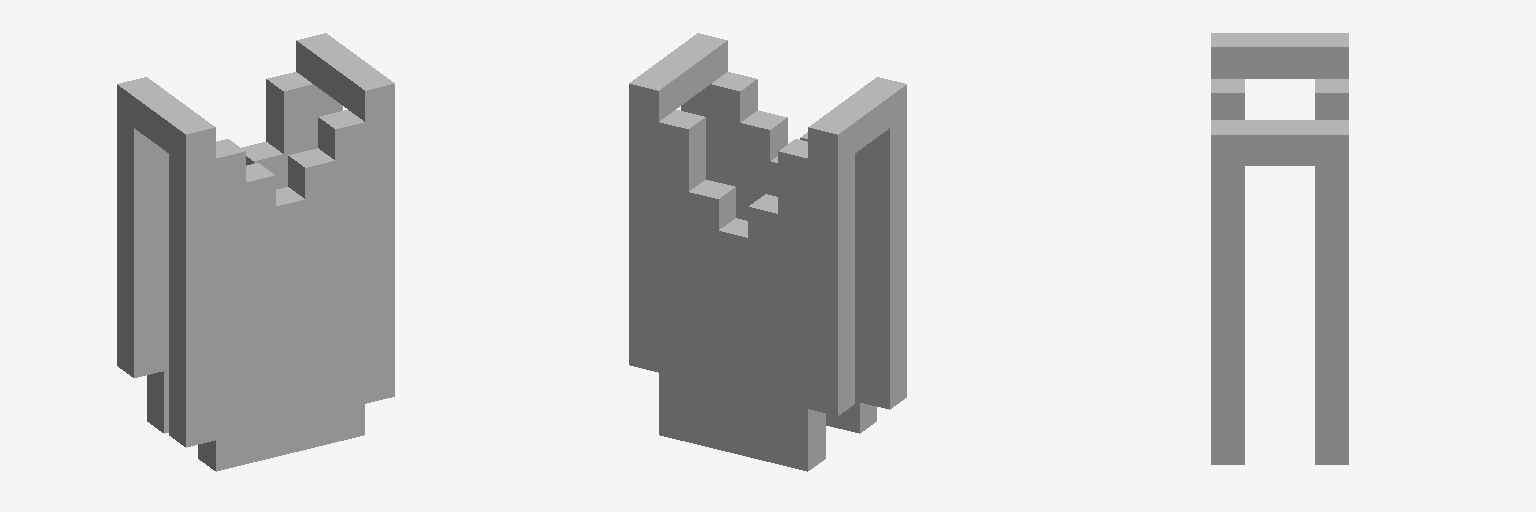
File: male_body_armor.obj
3 renders of one model, left to right at view 1: azimuth 30°, elevation 25°; view 2: azimuth 150°, elevation 25°; view 3: azimuth 270°, elevation 25°, orthographic.
Parts seen in each view (by area): view 1: Untitled; view 2: Untitled; view 3: Untitled.
Part boxes in pixels (bbox=[...]): Untitled: bbox=[117, 33, 394, 471]; Untitled: bbox=[629, 33, 906, 471]; Untitled: bbox=[1211, 33, 1348, 464].
Bounding box in the file's own units: 0.7 × 1.1 × 0.4.